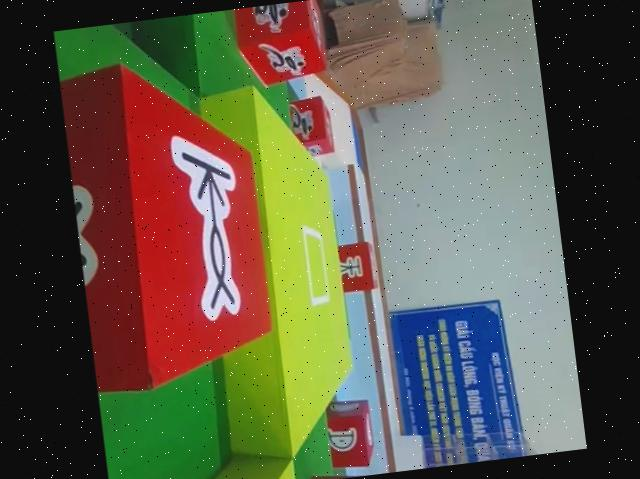R1: (230, 0, 329, 84), (285, 92, 337, 158)
R2 Real: (58, 44, 279, 389), (320, 394, 380, 472)
